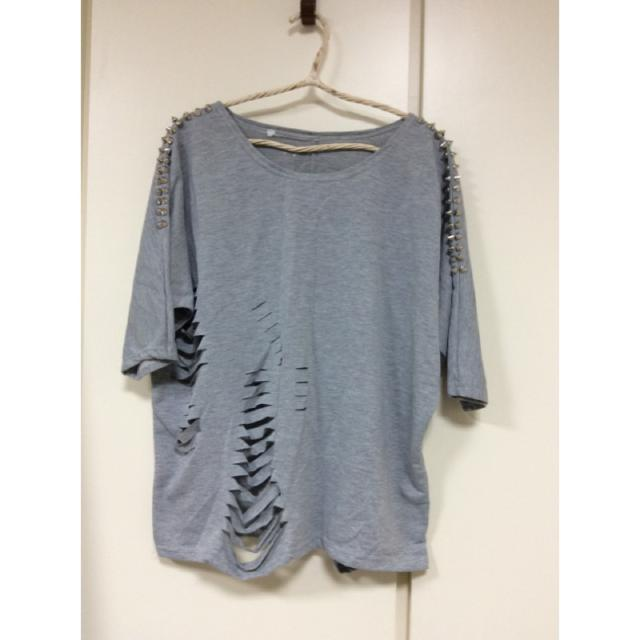Tops: (122, 101, 492, 581)
